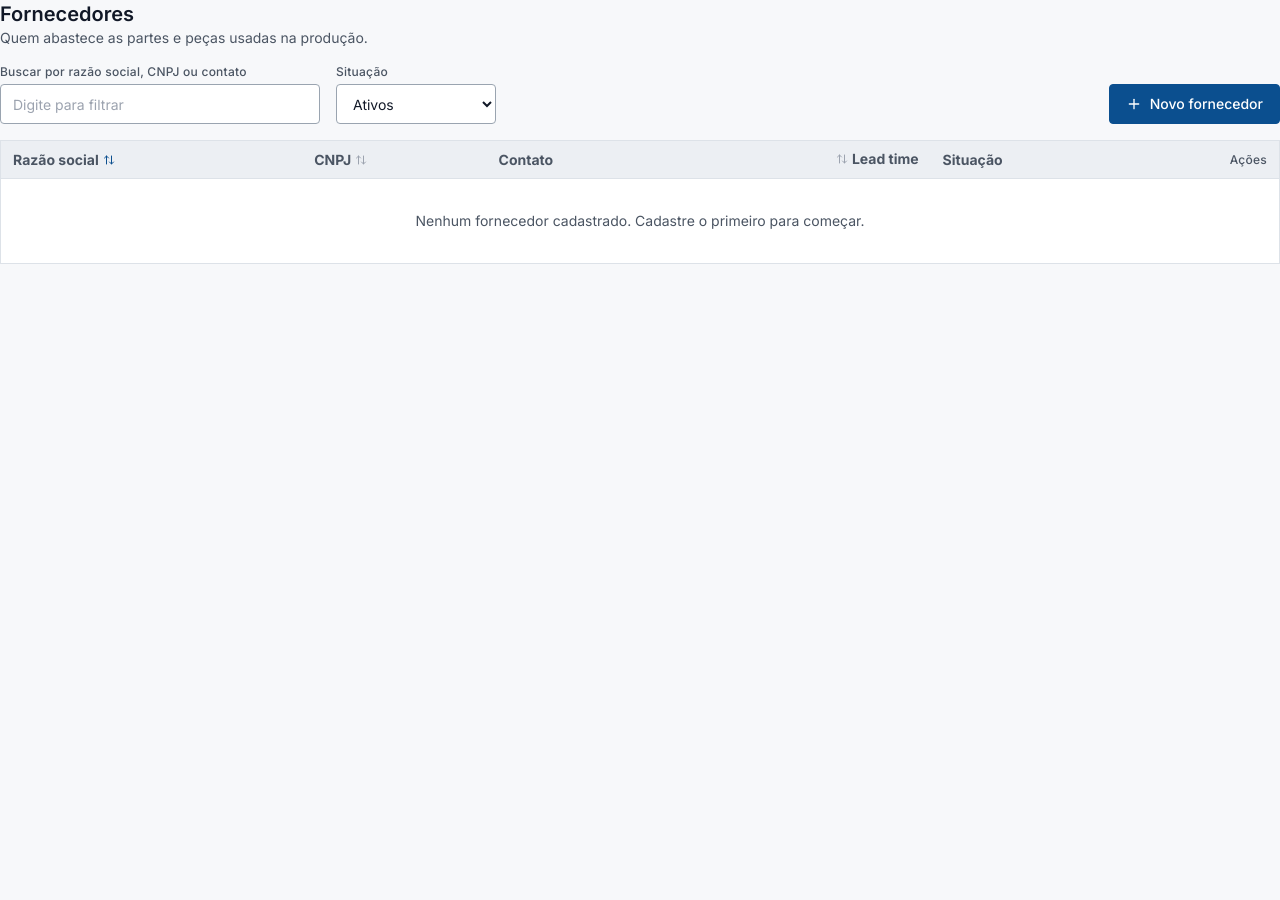
Test case: Fornecedores › erro 400 com detalhes marca o campo
The image size is (1280, 900).
Expected: the text "Nenhum fornecedor cadastrado" is shown, 416,212 -> 864,229
Click the button "Novo fornecedor" at (1194, 104), box 1109,84 -> 1279,124
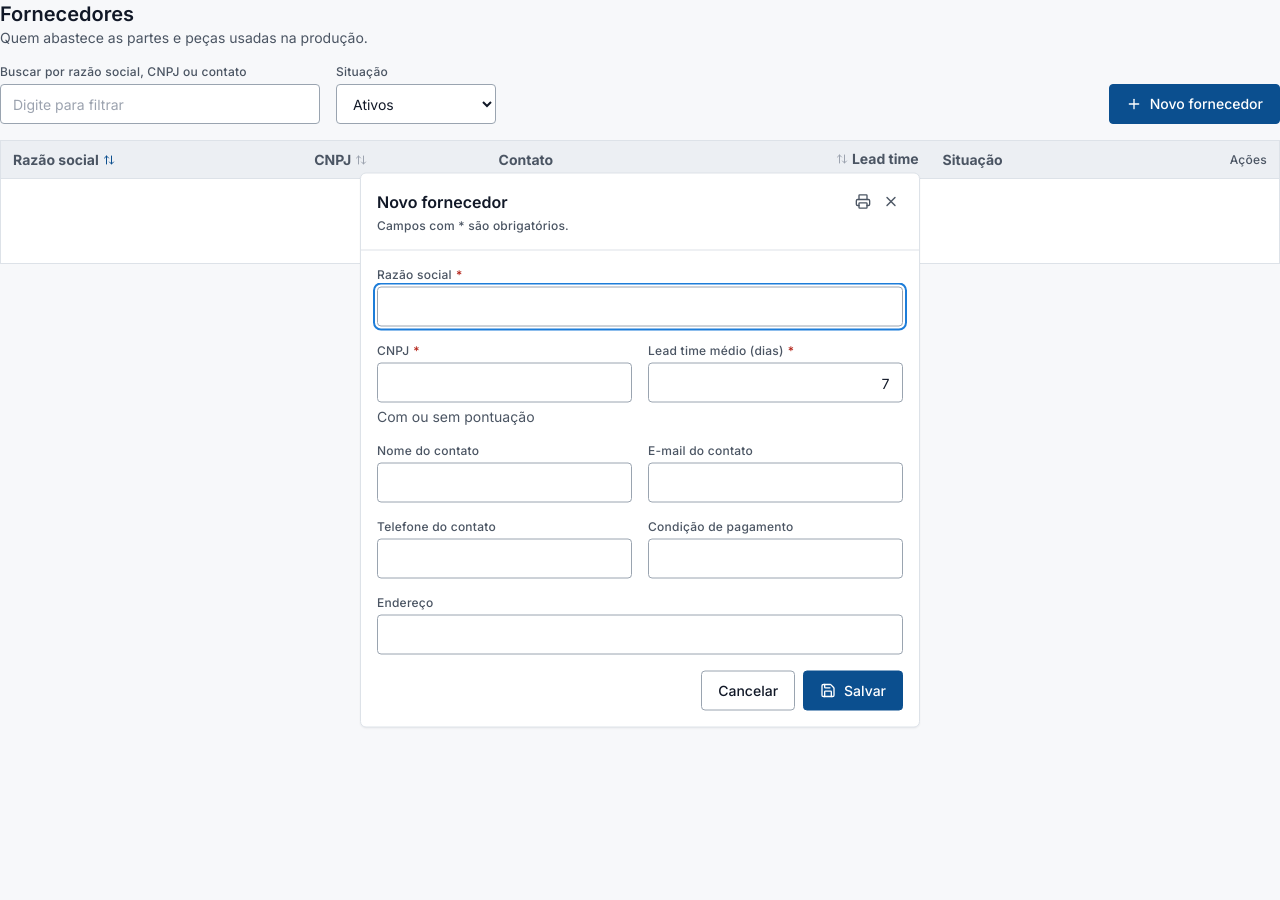
Type "X" into the field labelled "Razão social*" at (640, 306), box 377,286 -> 903,326
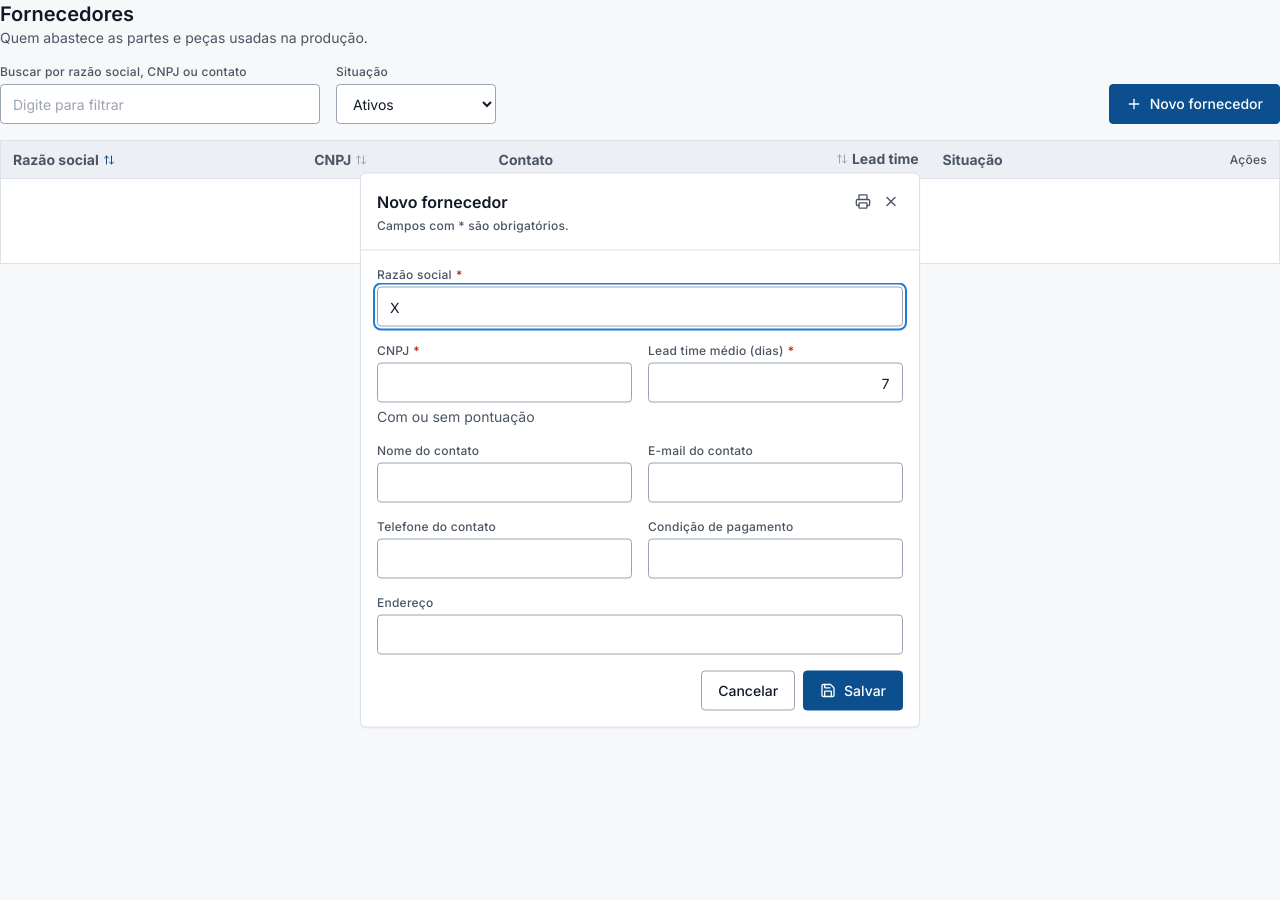
Type "11222333000181" into the field labelled "CNPJ*" at (504, 382), box 377,362 -> 632,402
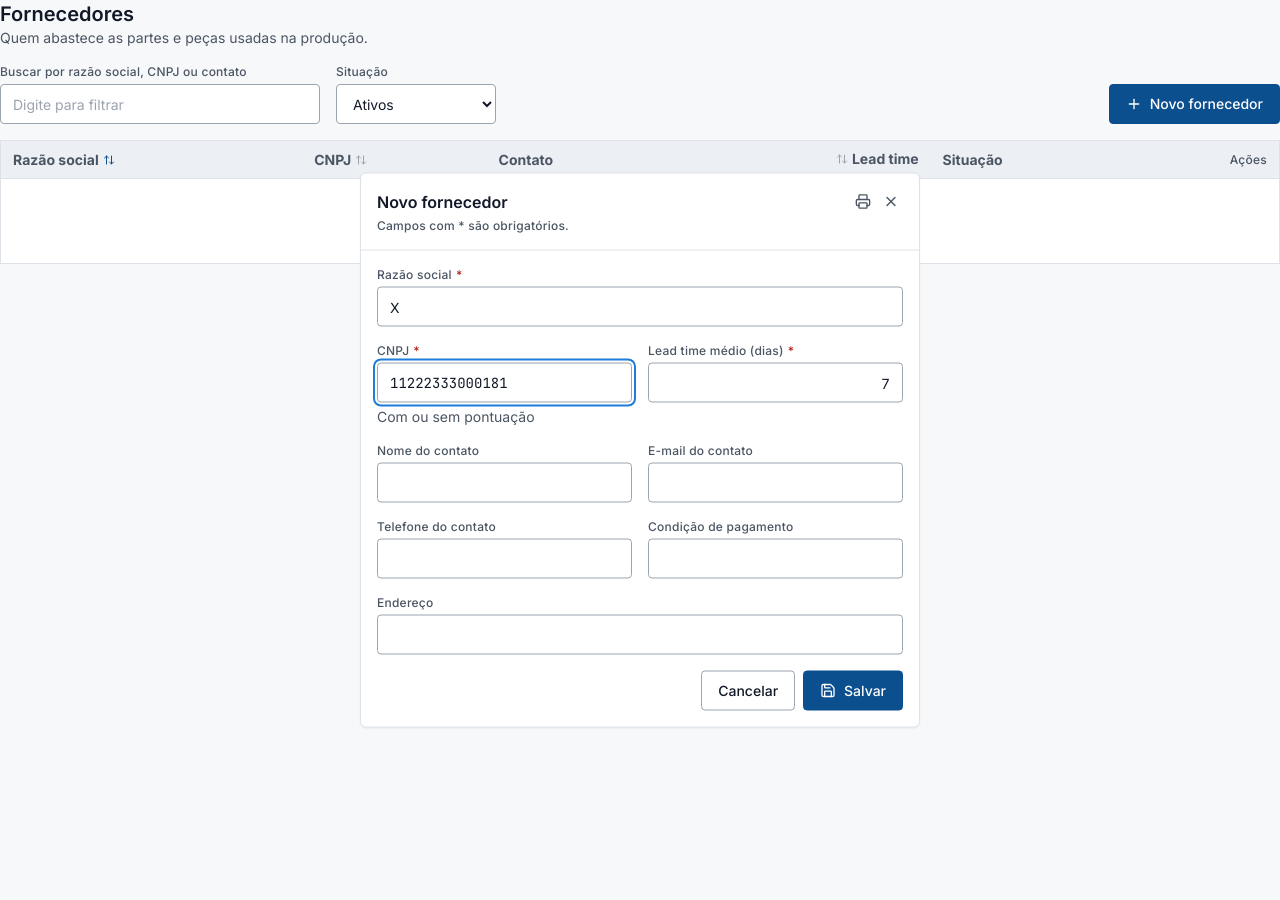
Click the button "Salvar" at (853, 690), box 803,670 -> 903,710
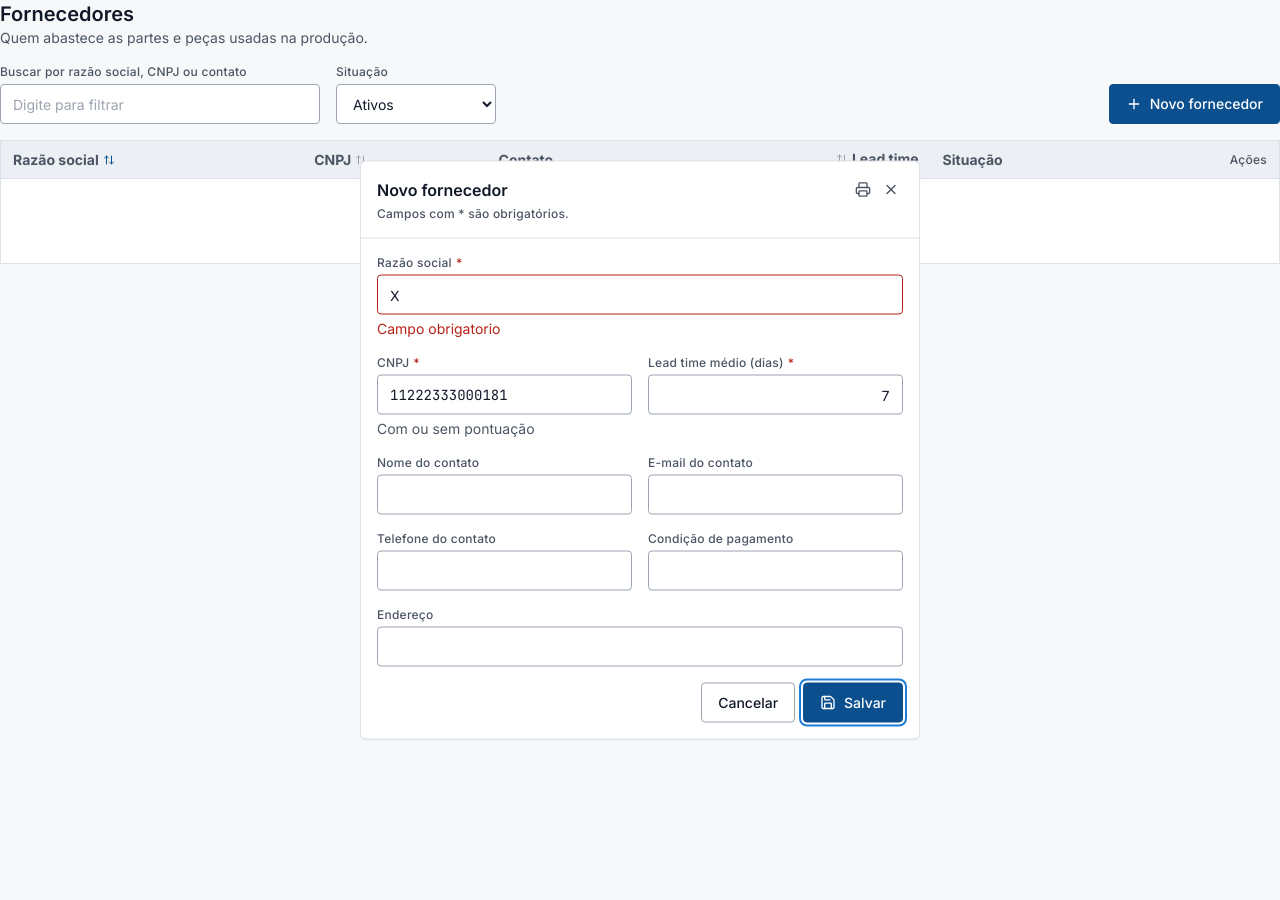
Result: the dialog "Novo fornecedor" is shown at 360,160 -> 920,740
Result: the text "Campo obrigatorio" is shown at 377,320 -> 500,336
